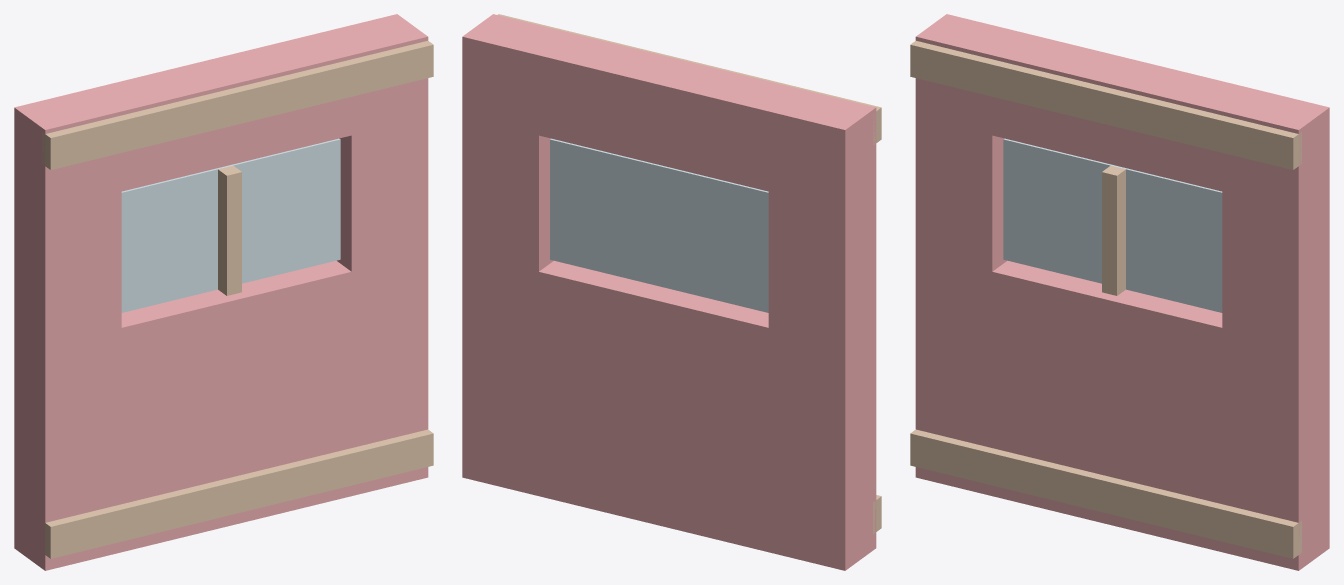
Rendered from wall-brick-window.glb.
3 views of the same model, side by side, from view 1: azimuth 30°, elevation 25°; view 2: azimuth 150°, elevation 25°; view 3: azimuth 330°, elevation 25° (orthographic).
Visible parts, largest first — view 1: sill, left_jamb, right_jamb, pane, lintel, top_trim, trim, crossbar; view 2: sill, left_jamb, right_jamb, pane, lintel, top_trim; view 3: sill, right_jamb, left_jamb, pane, lintel, trim, top_trim, crossbar.
Boxes of the visible parts, x1,y1,x2,y2 form: sill: (121, 260, 351, 551); left_jamb: (14, 89, 121, 570); right_jamb: (321, 14, 428, 495); pane: (121, 138, 340, 312); lintel: (91, 32, 351, 191); top_trim: (42, 41, 433, 169); trim: (45, 429, 433, 558); crossbar: (218, 165, 241, 295); sill: (539, 260, 768, 552); left_jamb: (768, 89, 876, 570); right_jamb: (462, 14, 569, 495); pane: (550, 138, 768, 312); lintel: (539, 33, 799, 191); top_trim: (498, 14, 881, 145); sill: (992, 260, 1222, 551); right_jamb: (1222, 89, 1329, 570); left_jamb: (915, 14, 1022, 495); pane: (1003, 138, 1222, 312); lintel: (992, 32, 1252, 191); trim: (910, 429, 1301, 558); top_trim: (910, 41, 1301, 169); crossbar: (1102, 165, 1125, 295).
Bounding box in the file's own units: 1 × 1.1 × 0.165.
